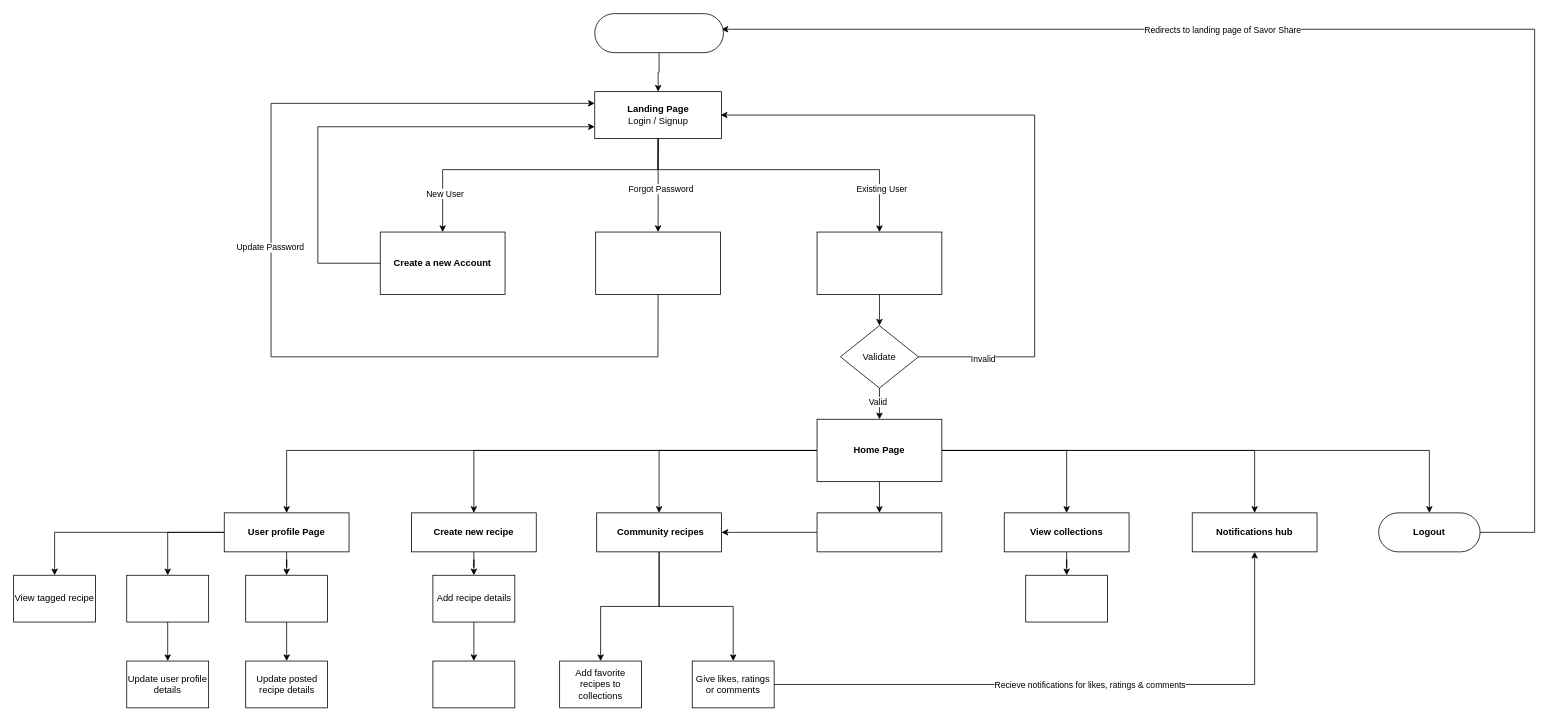
The diagram is 1555 pixels wide and 722 high, and some of its shapes have lost their labels. The shapes that lost their labels are listed below. From the top down, each one's centre as x and y in pixels, then its label:
point (658, 33): Open Savor Share App
point (657, 262): Enter OTP and new password
point (879, 262): Enter login credentials
point (879, 532): Search recipe by tittle
point (167, 598): View profile details
point (286, 598): View added recipe details
point (1066, 598): Organize favorites recipes by category
point (473, 684): Post recipe either by private or public
